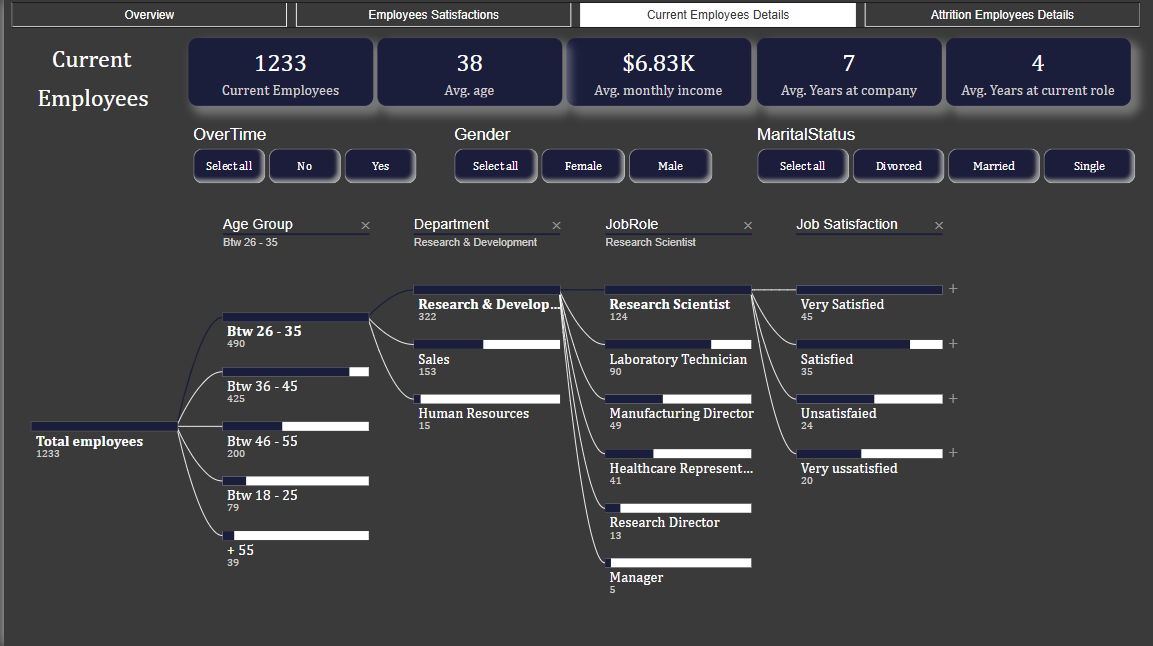

This screenshot's page, from the dashboard's own definition file:
{"tool":"powerbi","page":{"name":"Current Employees Details","canvas":[1280,720],"ordinal":2},"visuals":[{"type":"shape","box":[13,66.7,170.8,639.2],"z":0},{"type":"slicer","fields":{"Values":["HR-Employee-Attrition.MaritalStatus"]},"box":[27.7,218,143.1,214.7],"z":3000},{"type":"card","title":"Current Employees","fields":{"Values":["_Measures.Current Employees"]},"box":[204.9,67.4,204.9,74.8],"z":4000},{"type":"card","title":"Avg. monthly income","fields":{"Values":["_Measures.Avg. monthly income"]},"box":[626,67.4,205,75],"z":5000},{"type":"card","title":"Avg. Years at company","fields":{"Values":["_Measures.Avg. Years at company"]},"box":[836.6,67.4,205,75],"z":6000},{"type":"card","title":"Avg. Years at current role","fields":{"Values":["_Measures.Avg. Years at current role"]},"box":[1047.5,66.7,213.1,76.4],"z":7000},{"type":"card","title":"Avg. age","fields":{"Values":["_Measures.Avg. age"]},"box":[415.5,67.4,205,75],"z":8000},{"type":"textbox","box":[14.6,79.7,169.2,43.9],"z":9000},{"type":"textbox","box":[14.6,117.1,169.2,52],"z":10000},{"type":"pageNavigator","box":[13.6,14.5,1248.2,35.5],"z":11000},{"type":"decompositionTreeVisual","fields":{"ExplainBy":["HR-Employee-Attrition.Performance Rating ","HR-Employee-Attrition.YearsAtCompany","HR-Employee-Attrition.Relationship Satisfaction","HR-Employee-Attrition.WorkLife Balance ","HR-Employee-Attrition.EducationField","HR-Employee-Attrition.Job Involvment","HR-Employee-Attrition.Environment Satisfaction ","HR-Employee-Attrition.Distance from home","HR-Employee-Attrition.Job Satisfaction","HR-Employee-Attrition.JobRole","HR-Employee-Attrition.Department","HR-Employee-Attrition.Age Group"],"Analyze":["_Measures.Total emplyees"]},"box":[204.9,157.8,1055.6,549.8],"z":12001},{"type":"slicer","fields":{"Values":["HR-Employee-Attrition.Gender"]},"box":[27.7,440.9,143.1,125.2],"z":12002},{"type":"slicer","fields":{"Values":["HR-Employee-Attrition.OverTime"]},"box":[27.2,574.4,143.2,124.6],"z":12003}]}

Visuals, with their boxes in screenshot pixels (x1, y1, x2, y2), scaled from the page's 1280x720 canvas onto the 1153x646 screenshot:
shape: detection(12, 60, 166, 633)
slicer - HR-Employee-Attrition.MaritalStatus: detection(25, 196, 154, 388)
"Current Employees" card: detection(185, 60, 369, 128)
"Avg. monthly income" card: detection(564, 60, 749, 128)
"Avg. Years at company" card: detection(754, 60, 938, 128)
"Avg. Years at current role" card: detection(944, 60, 1136, 128)
"Avg. age" card: detection(374, 60, 559, 128)
textbox: detection(13, 72, 166, 111)
textbox: detection(13, 105, 166, 152)
pageNavigator: detection(12, 13, 1137, 45)
decompositionTreeVisual - HR-Employee-Attrition.Performance Rating  x HR-Employee-Attrition.YearsAtCompany: detection(185, 142, 1135, 635)
slicer - HR-Employee-Attrition.Gender: detection(25, 396, 154, 508)
slicer - HR-Employee-Attrition.OverTime: detection(25, 515, 153, 627)
